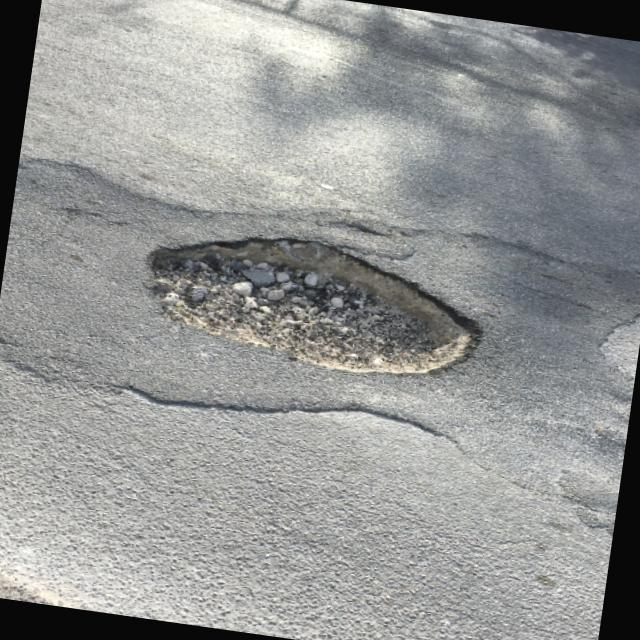bad-road: (130, 216, 492, 390)
